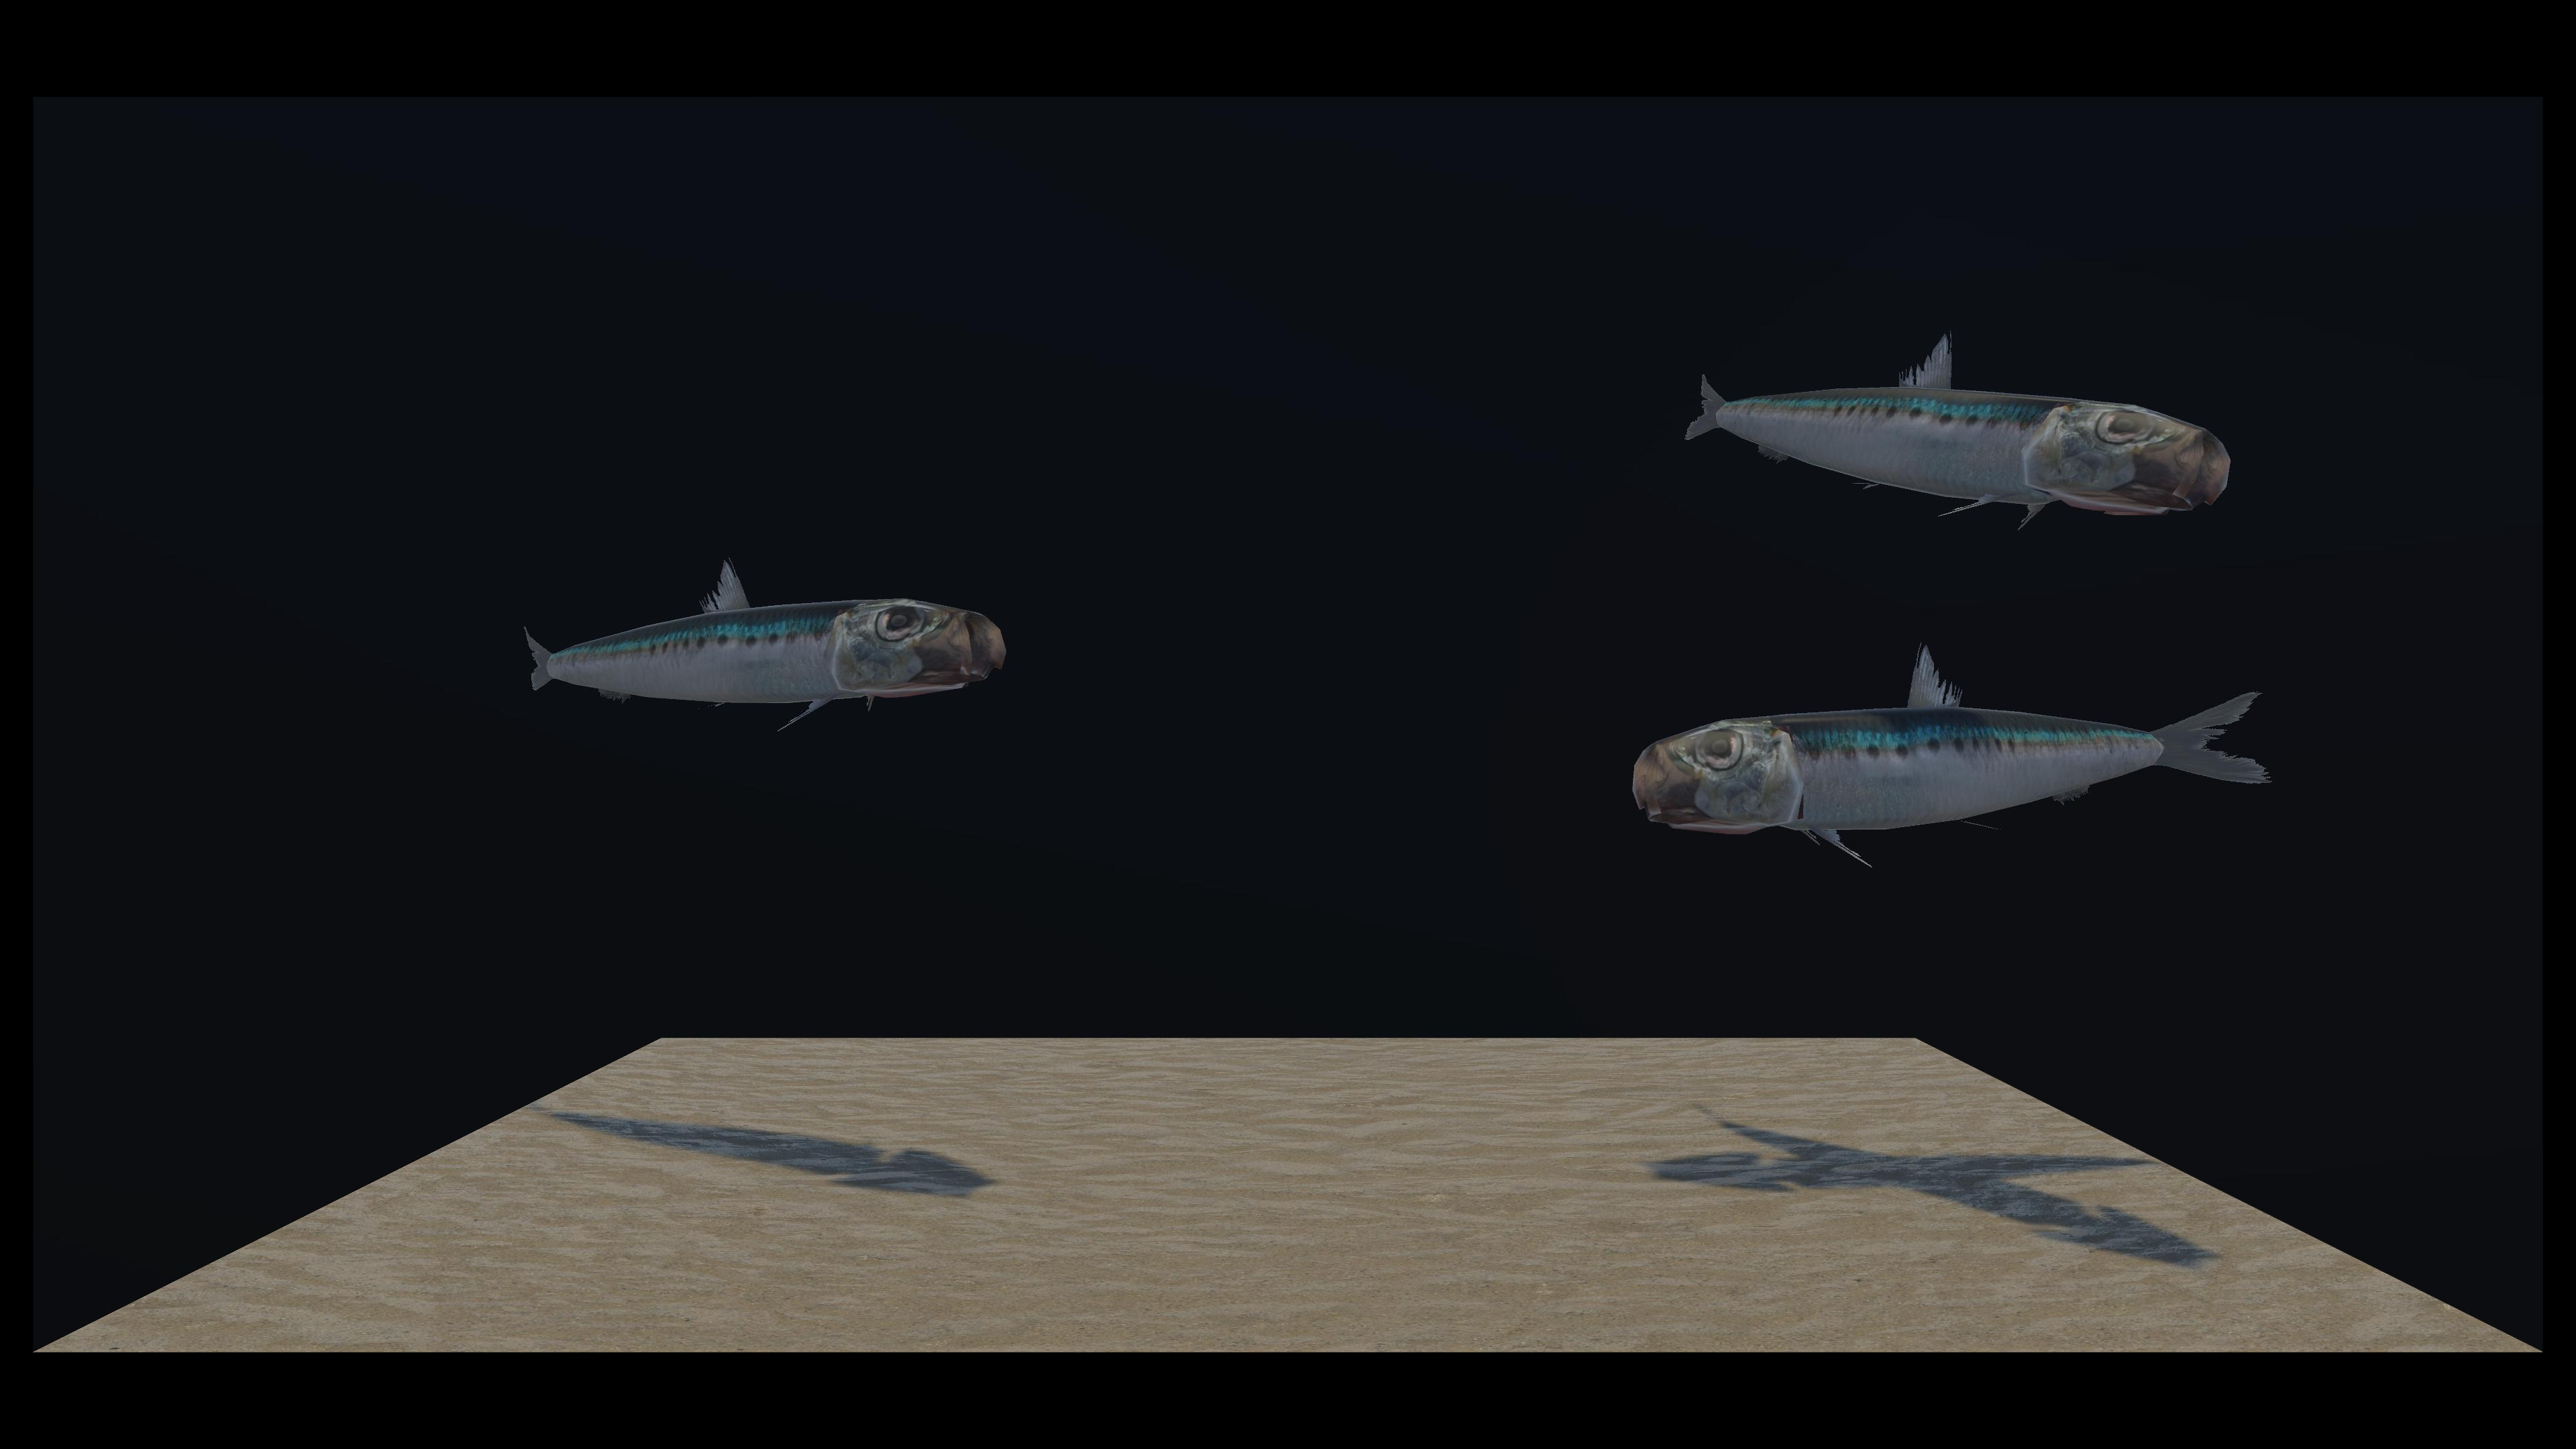Sardine_Front: (812, 280, 2259, 872), (885, 338, 2203, 540), (524, 299, 991, 740)
